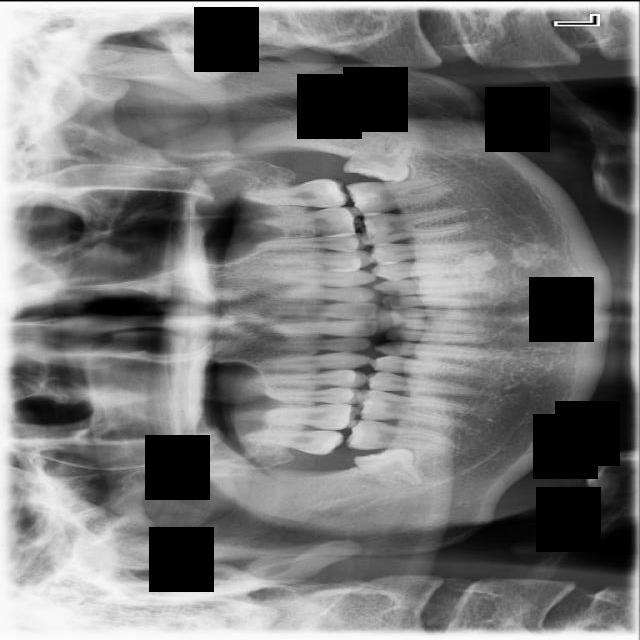52: (356, 206, 407, 248)
73: (552, 22, 560, 26)
BioHorizons Implant: (242, 176, 349, 207)
Biomet 3i Implant: (342, 125, 419, 190)
Blue Sky Bio Implant: (346, 174, 462, 217)
Caries: (238, 427, 344, 455)
Implant: (346, 418, 452, 450)
Keystone Dental Implant: (351, 440, 424, 498)
